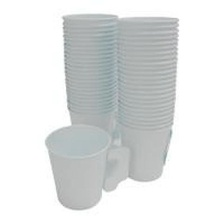paper_cup: (112, 12, 181, 184), (39, 120, 132, 214), (57, 9, 120, 147)
